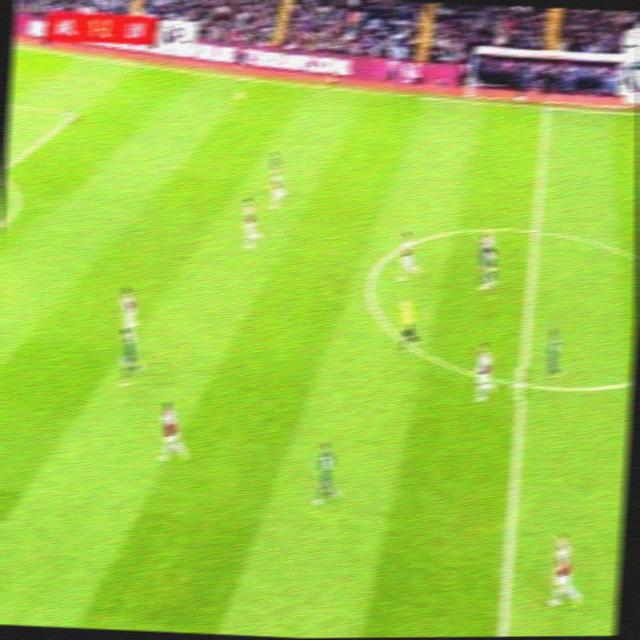bigarea_top_inner: (64, 103, 84, 125)
halfcircle_bottom: (508, 365, 538, 401)
halfcircle_top: (522, 216, 549, 246)
midline_top_intersection: (534, 96, 557, 119)
top_arc_area_intersection: (3, 162, 9, 181)
